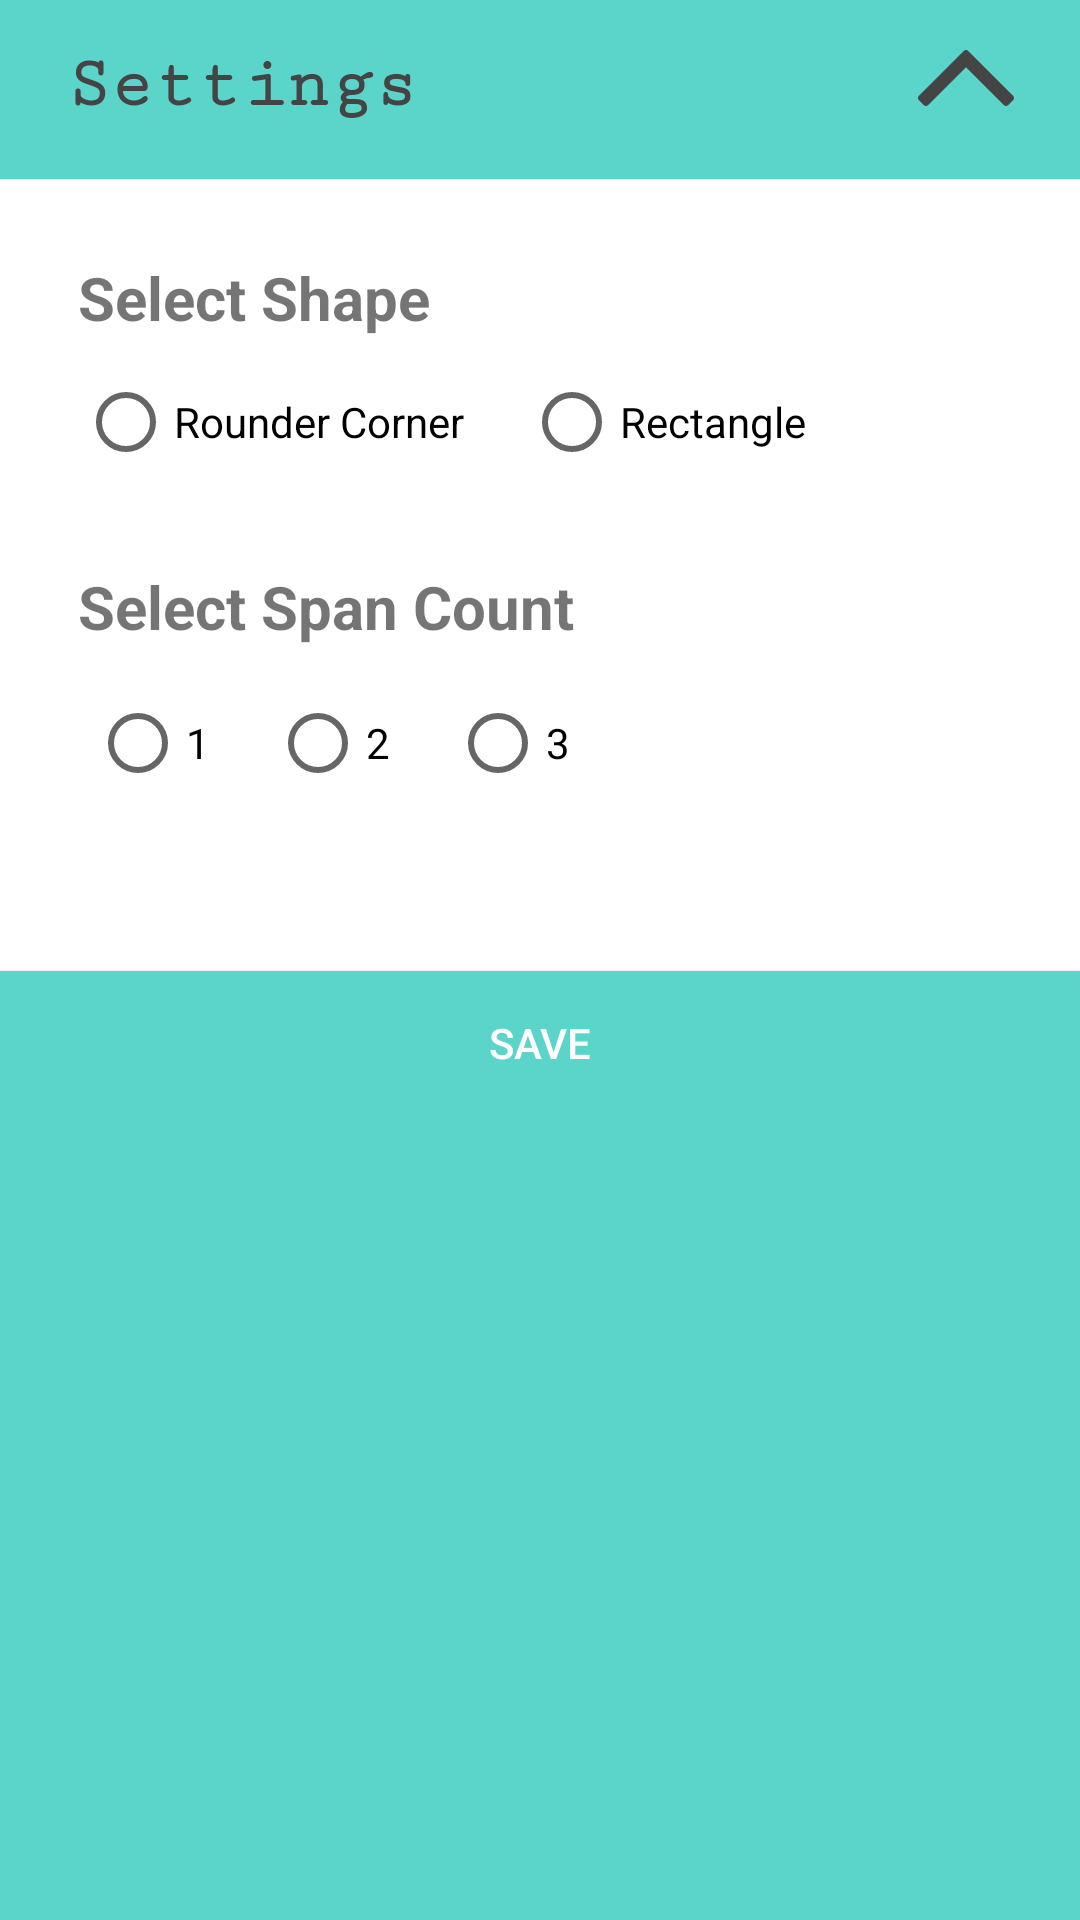

Icons on this 1080 × 1920 Android screen, each with the point to tap as point (x, y):
up arrow: point (966, 78)
